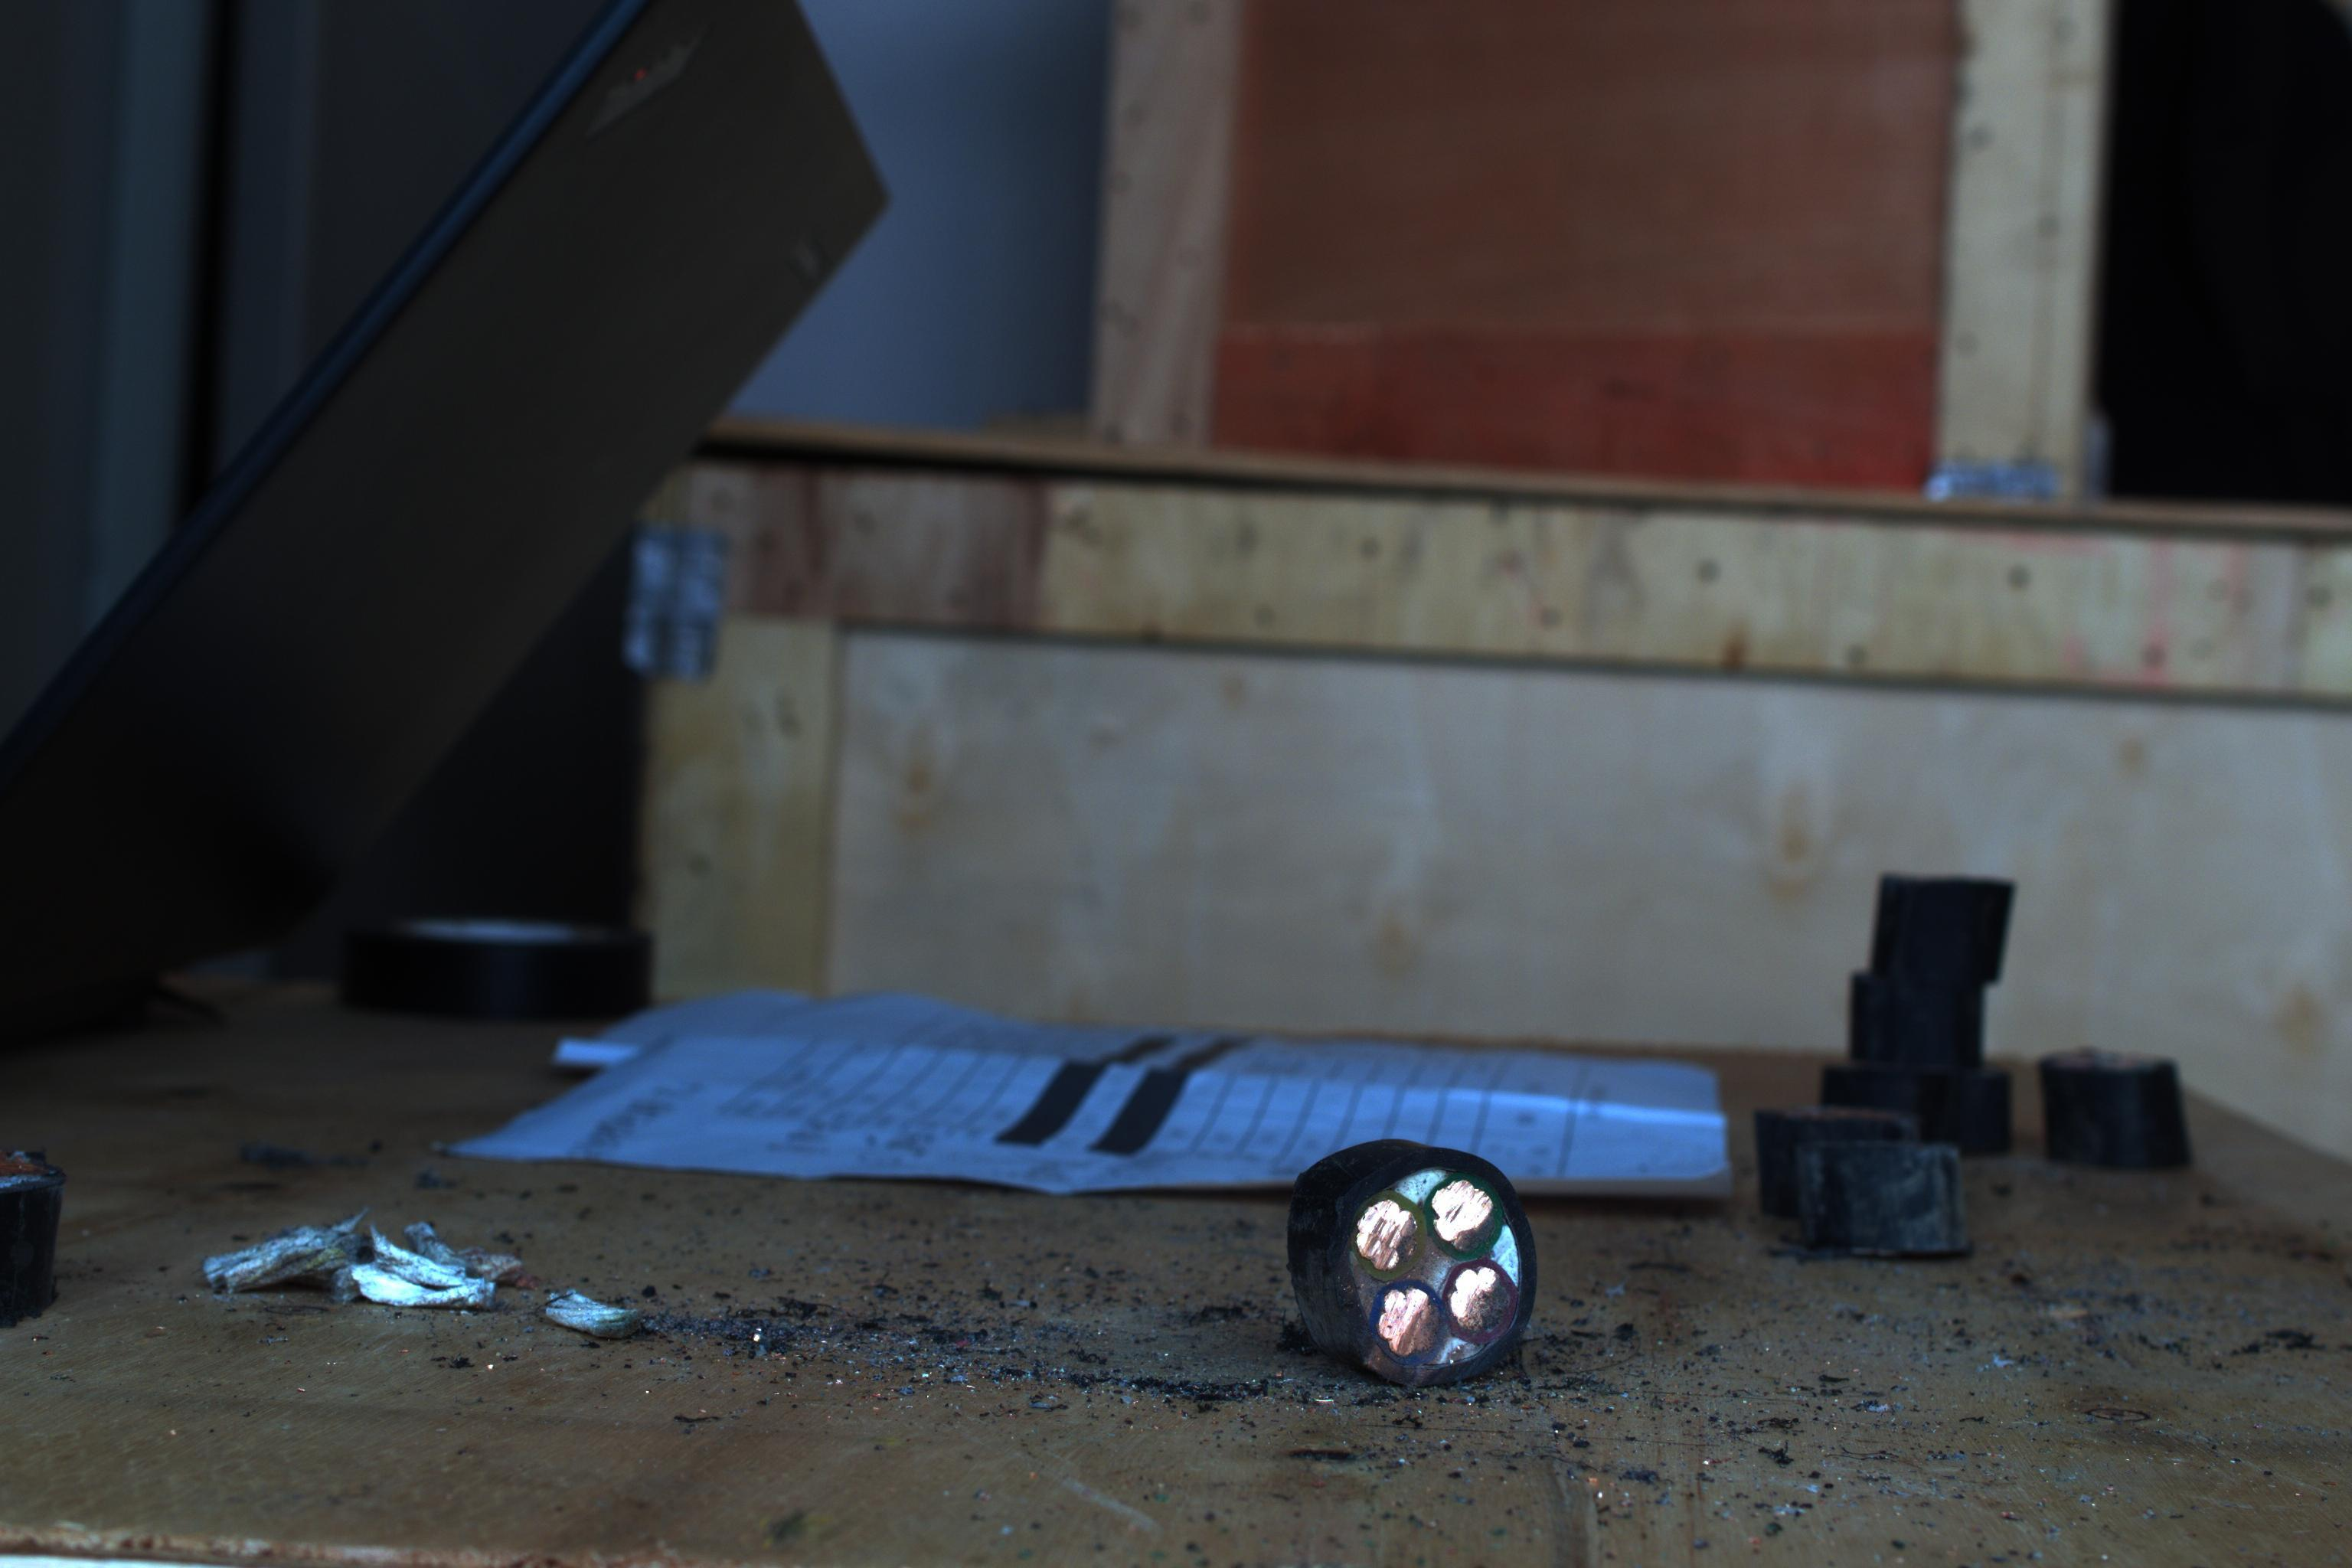YJV_0.6_1kV_4x35: (1312, 1157, 1538, 1384)
